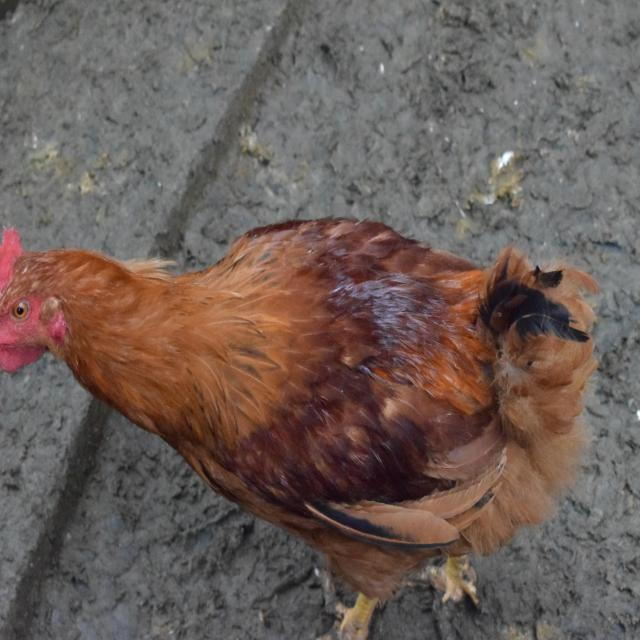cook: (0, 219, 596, 637)
